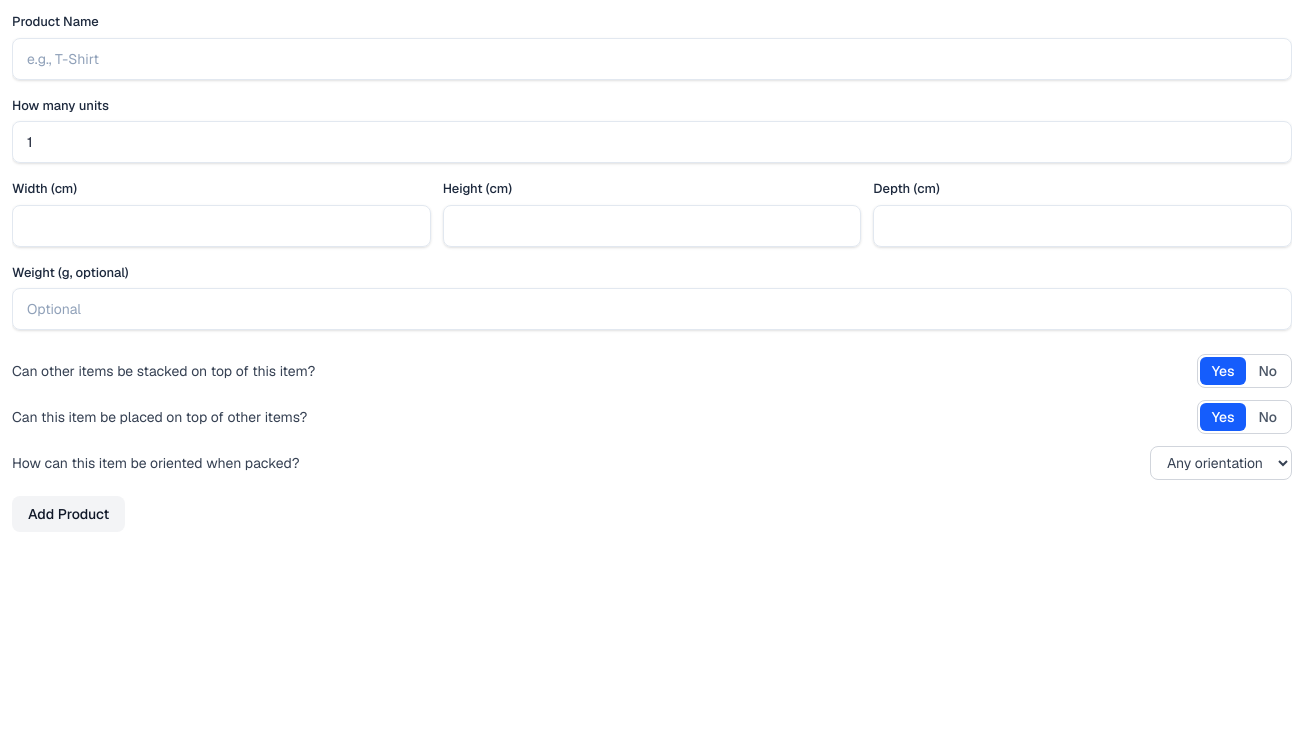
it: ProductForm › renders and validates the quantity field when enabled
Clear the number field labelled "How many units". click: coordinates (652, 142)
box: [12,121,1292,163]
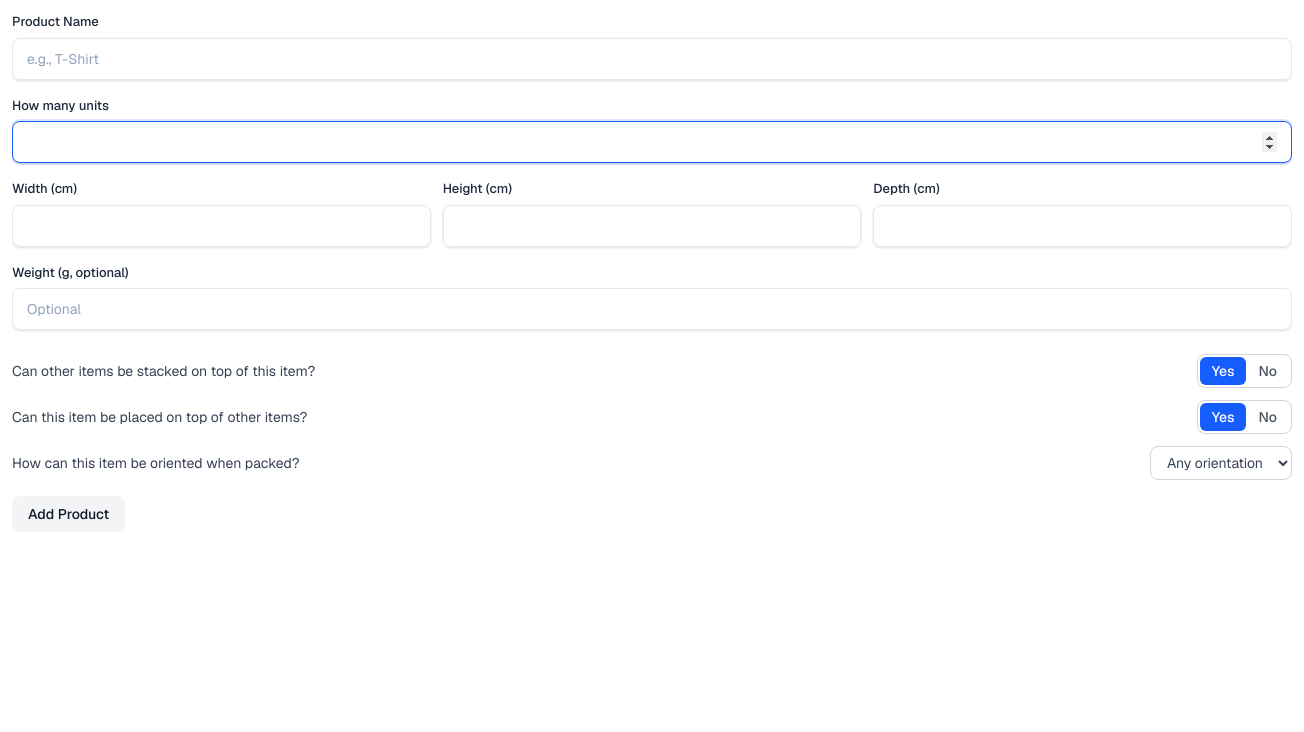
Click the button "Add Product". click: coordinates (69, 514)
box: [12,496,125,532]
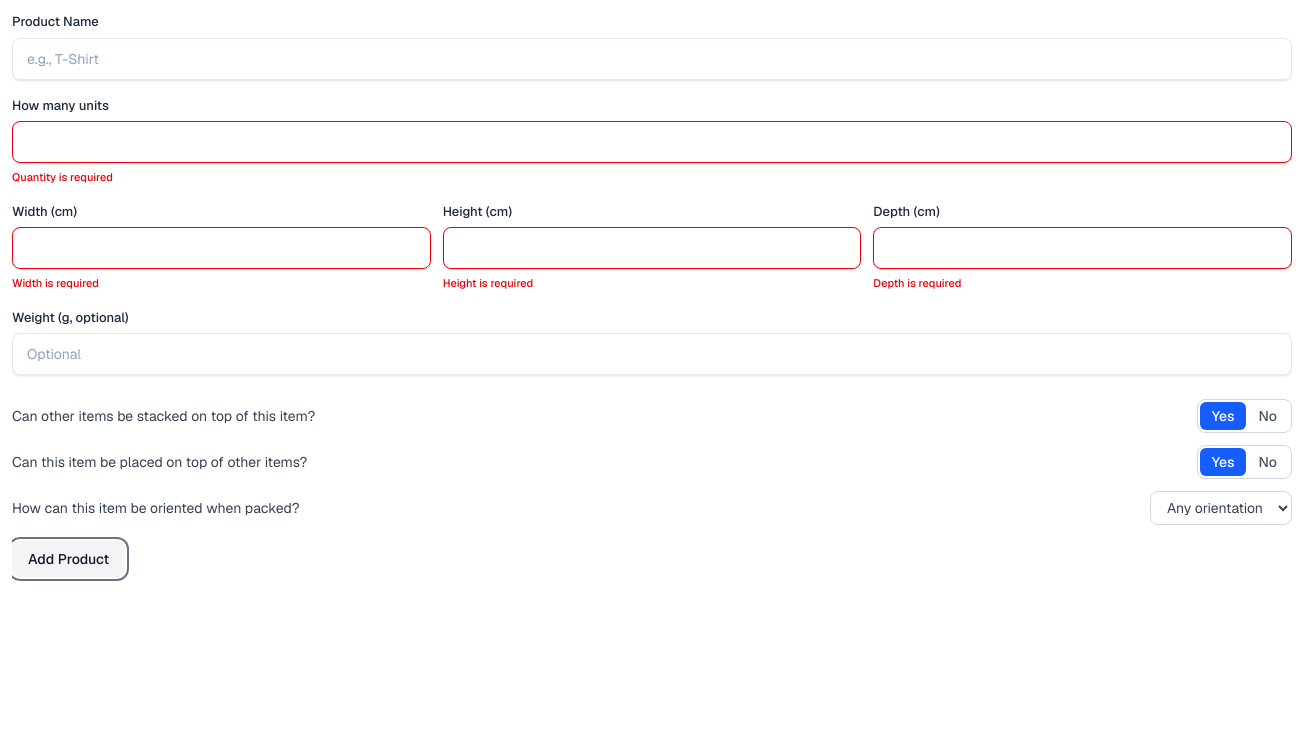
Expected: the text "Quantity is required" is shown, [12,170,113,184]
